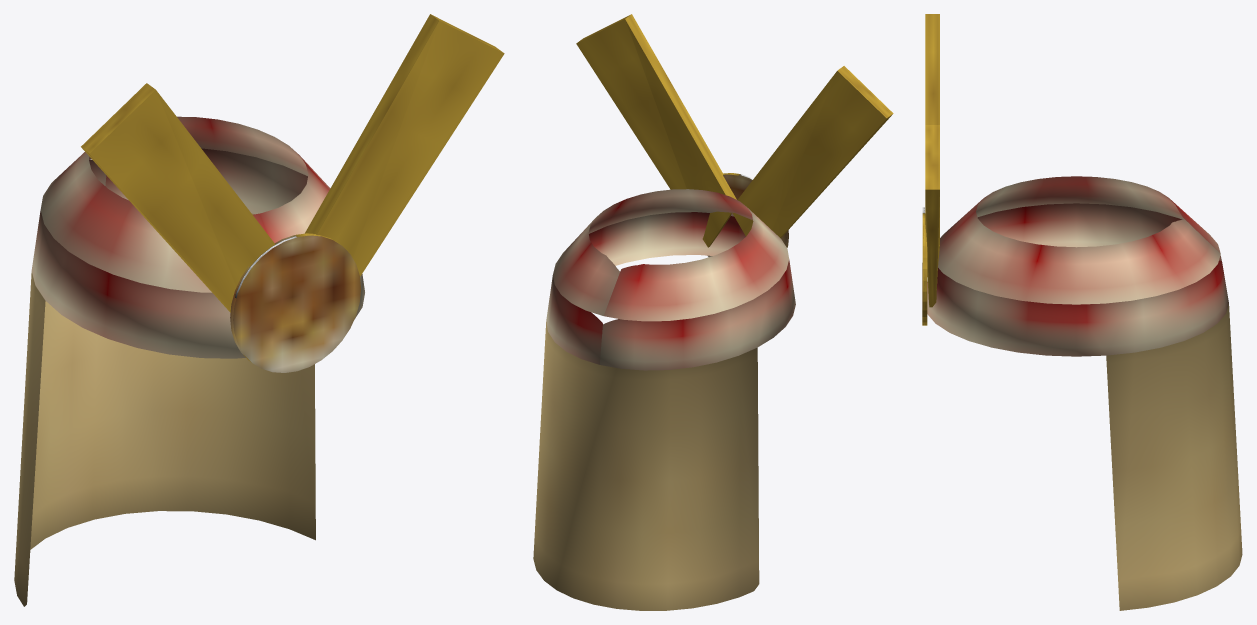
File: helmet_moch_champ_healer.dae
3 views of the same model, side by side, from view 1: azimuth 30°, elevation 25°; view 2: azimuth 150°, elevation 25°; view 3: azimuth 270°, elevation 25° (orthographic). The views are drawn at different scales.
Parts seen in each view (by area): view 1: Cilindro.337; view 2: Cilindro.337; view 3: Cilindro.337.
Boxes of the visible parts, left/top/right/bottom form: Cilindro.337: left=14, top=14, right=504, bottom=606; Cilindro.337: left=533, top=14, right=893, bottom=610; Cilindro.337: left=922, top=14, right=1242, bottom=610.
Bounding box in the file's own units: 0.7382 × 0.6159 × 1.03.
